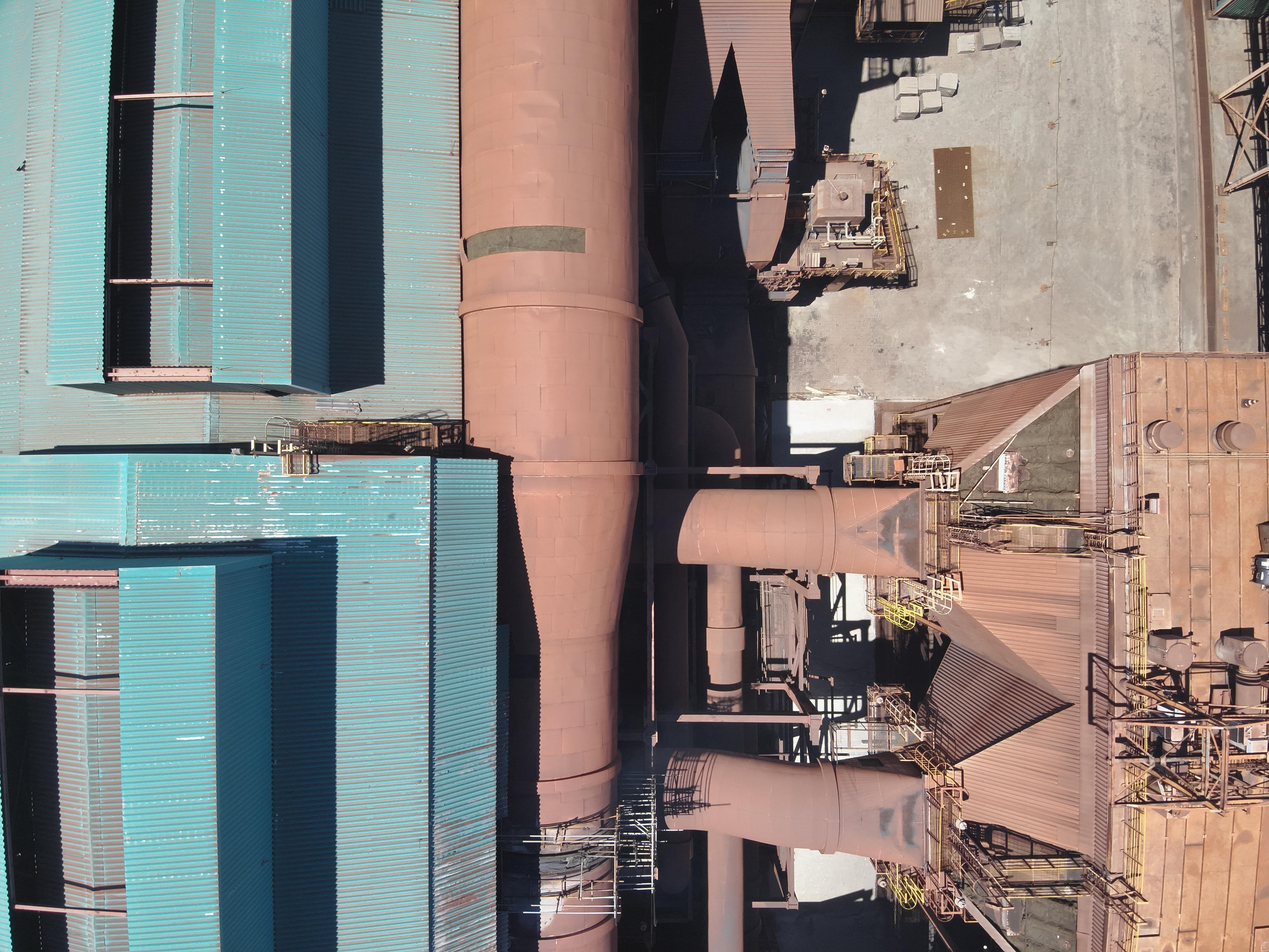Failures: (948, 381, 1092, 520), (962, 869, 1091, 949), (453, 223, 593, 261)
